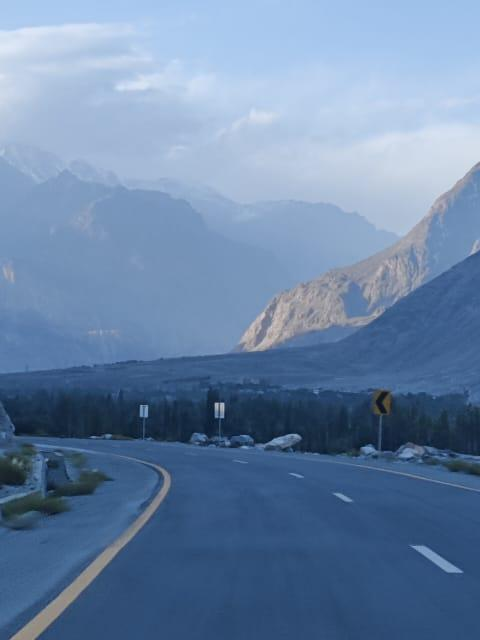left_turn: (31, 409, 350, 503), (371, 390, 391, 414)
